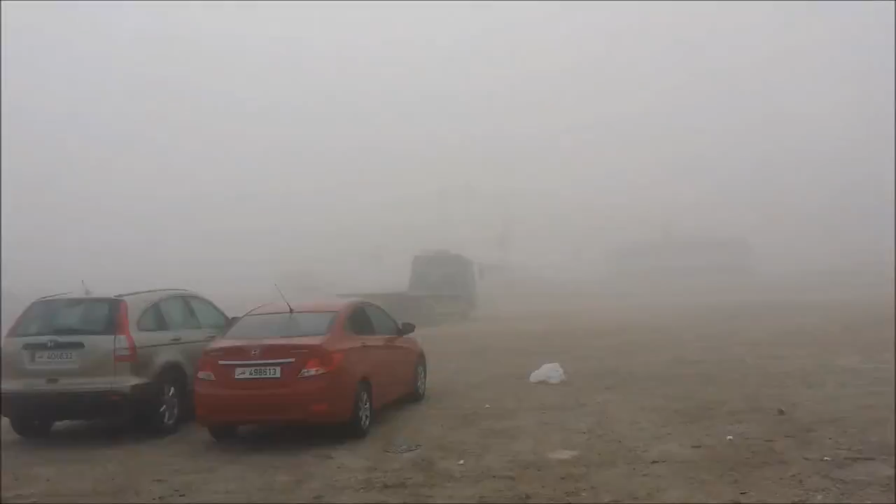bus: (331, 247, 488, 327)
car: (1, 276, 253, 437), (191, 280, 432, 446)
